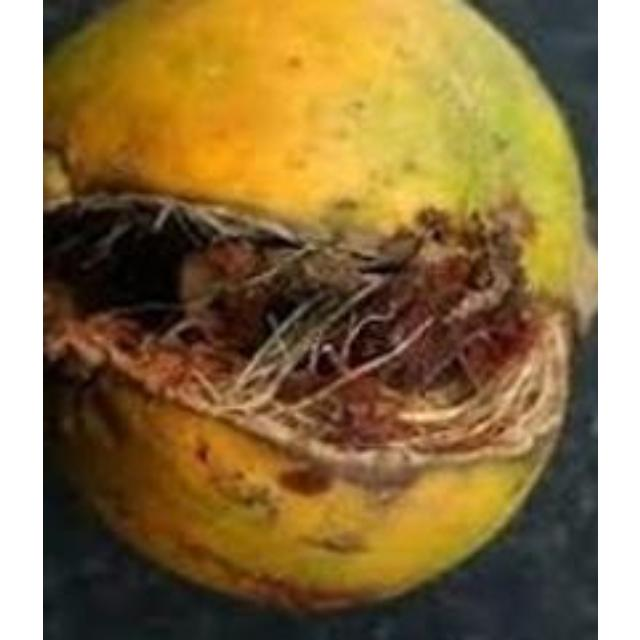damaged: (42, 0, 594, 637)
